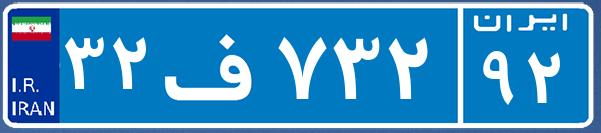2: (385, 28, 445, 110), (110, 28, 158, 105), (525, 38, 570, 115)
3: (330, 28, 385, 110), (57, 26, 110, 107)
7: (273, 28, 330, 110)
9: (475, 38, 525, 113)
ف: (158, 15, 273, 115)
